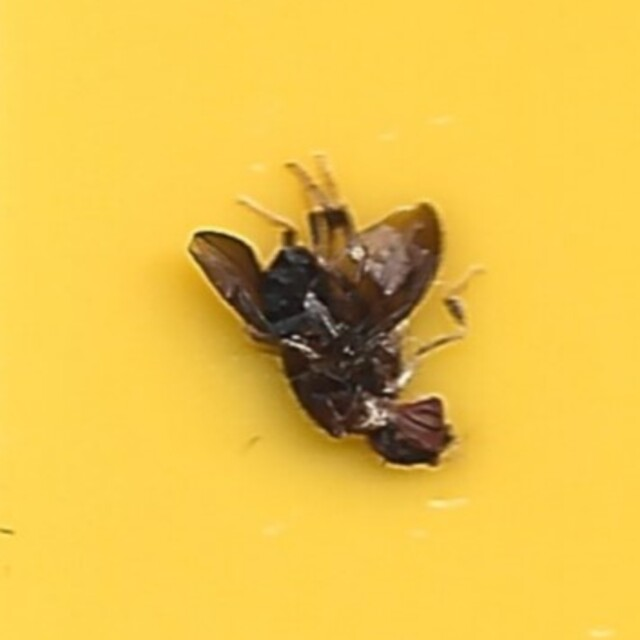Brachycera: (181, 161, 459, 479)
